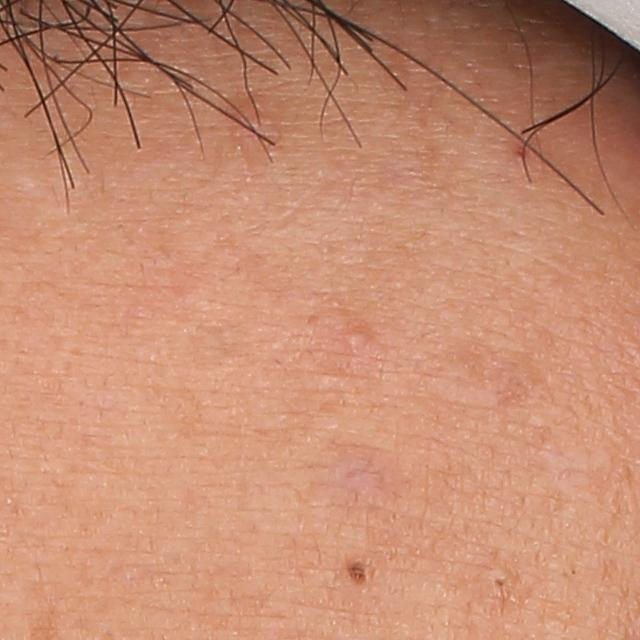nevus: (342, 552, 374, 601)
